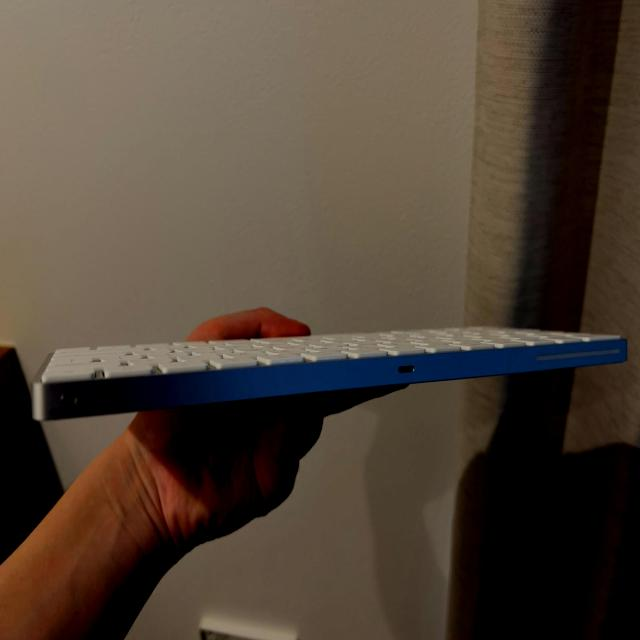keyboard: (30, 322, 629, 422)
